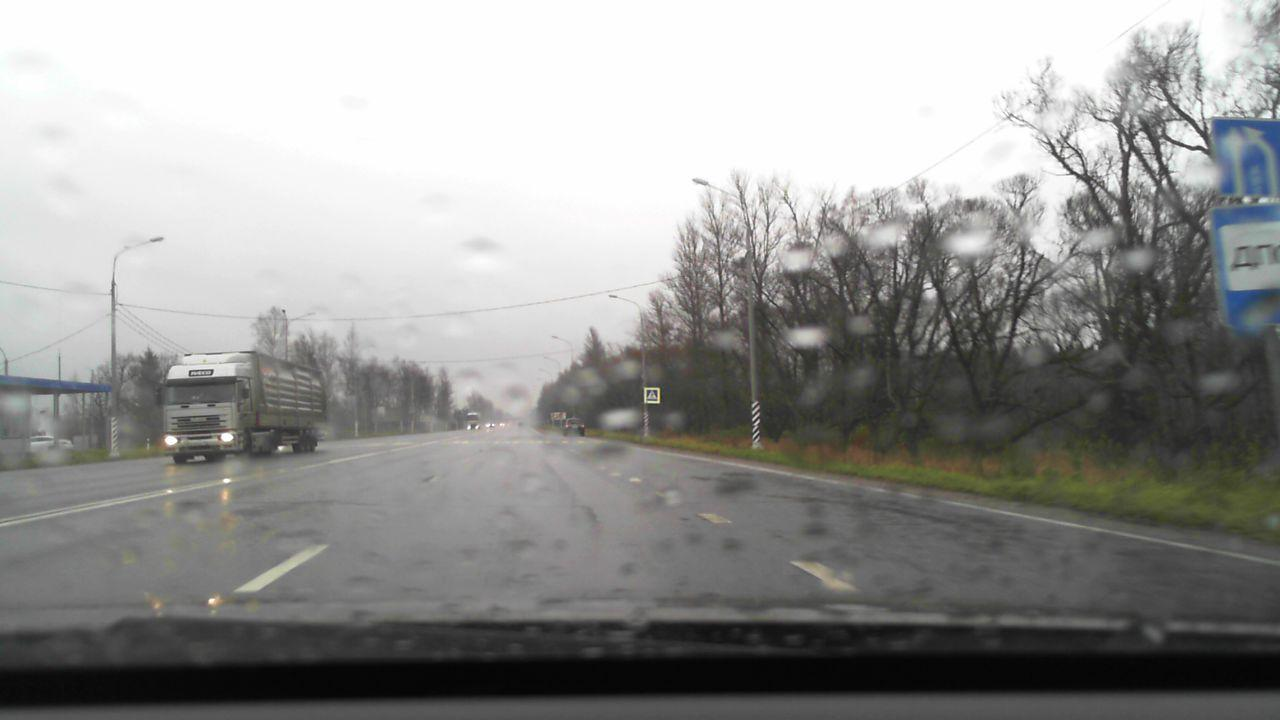5_15_5: (1211, 116, 1280, 195)
5_19_1: (643, 385, 661, 403)
7_12: (1209, 203, 1279, 326)
